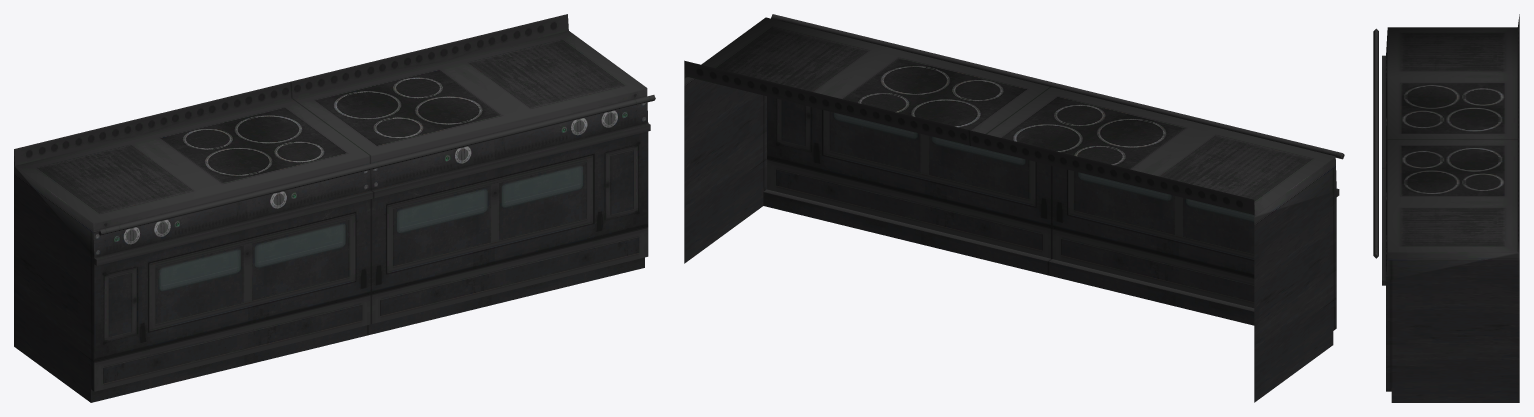
The model's file is p6_industrial_stove_lod3.glb.
The picture shows the model from 3 angles, left to right: view 1: azimuth 30°, elevation 25°; view 2: azimuth 150°, elevation 25°; view 3: azimuth 270°, elevation 25°; orthographic projection. The views are drawn at different scales.
Parts seen in each view (by area): view 1: surf0; view 2: surf0; view 3: surf0.
Part boxes in pixels (x1,y1,x2,y2): surf0: (14,14,655,402); surf0: (684,14,1344,402); surf0: (1373,14,1519,402).
Bounding box in the file's own units: 132 × 44.79 × 36.08.
